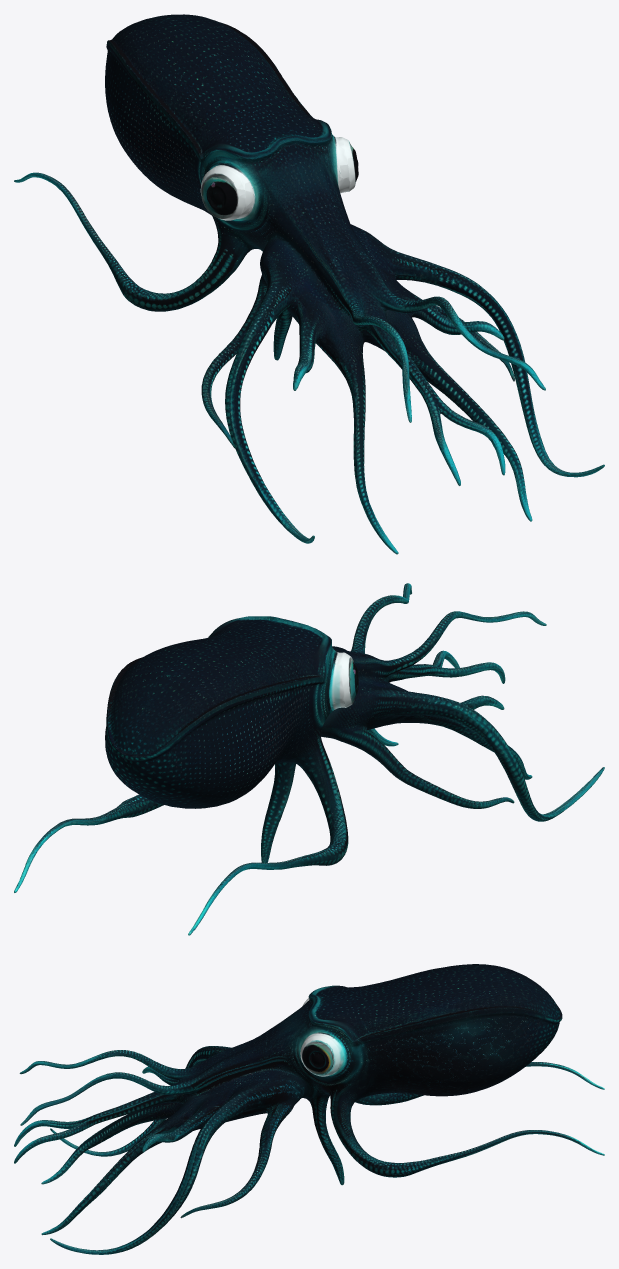
Rendered from fish_inkwell_squid.glb.
3 renders of one model, top to bottom at view 1: azimuth 30°, elevation 25°; view 2: azimuth 150°, elevation 25°; view 3: azimuth 270°, elevation 25°, orthographic. The views are drawn at different scales.
Size of the model in its own units: 0.8455 by 0.8421 by 1.9.
Materials: 1 (1 with a texture image).
